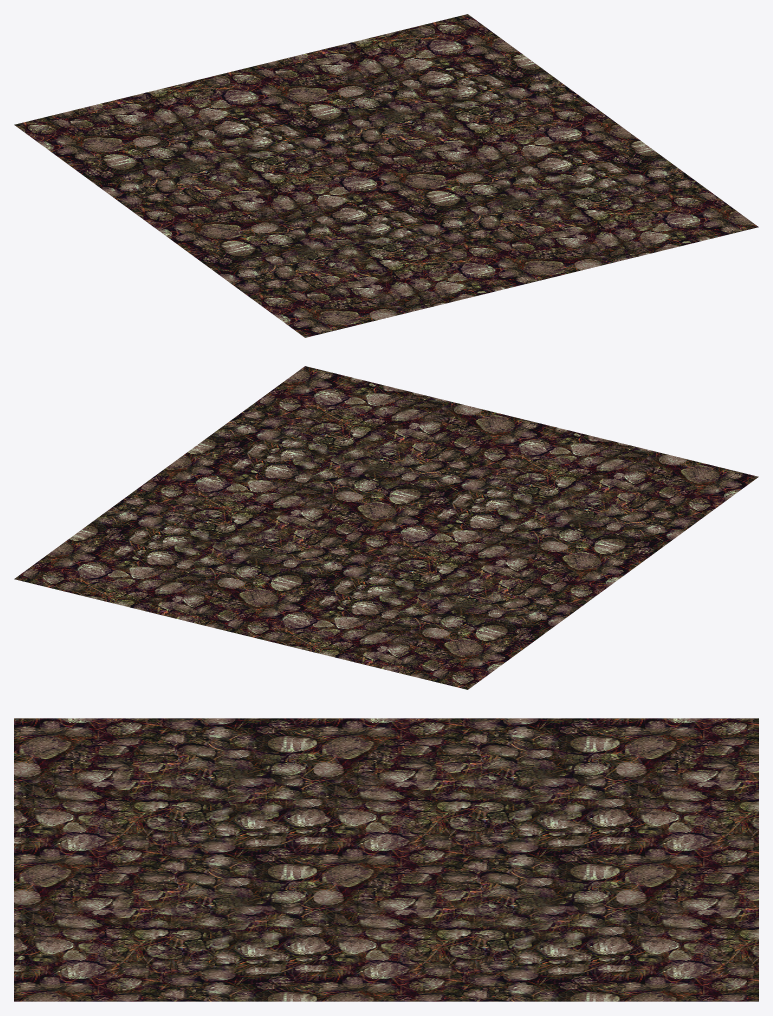
The picture shows the model from 3 angles, top to bottom: view 1: azimuth 30°, elevation 25°; view 2: azimuth 150°, elevation 25°; view 3: azimuth 270°, elevation 25°; orthographic projection. The views are drawn at different scales.
Parts seen in each view (by area): view 1: r3; view 2: r3; view 3: r3.
Boxes of the visible parts, x1,y1,x2,y2 form: r3: (14,14,758,337); r3: (14,366,758,689); r3: (14,718,758,1001).
Size of the model in its own units: 2325 by 0 by 2583.
